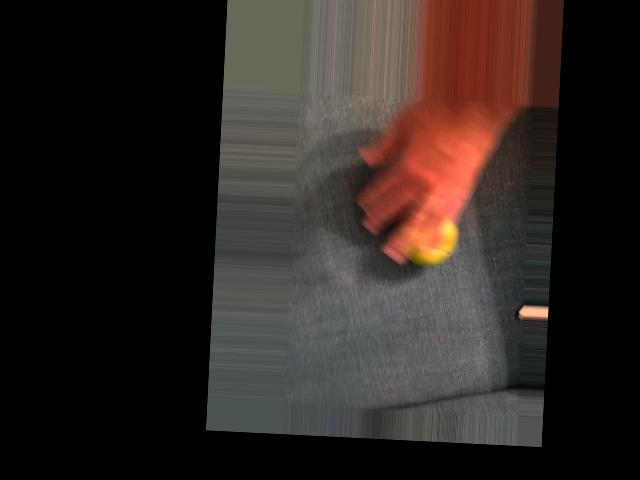apple: (384, 191, 470, 273)
